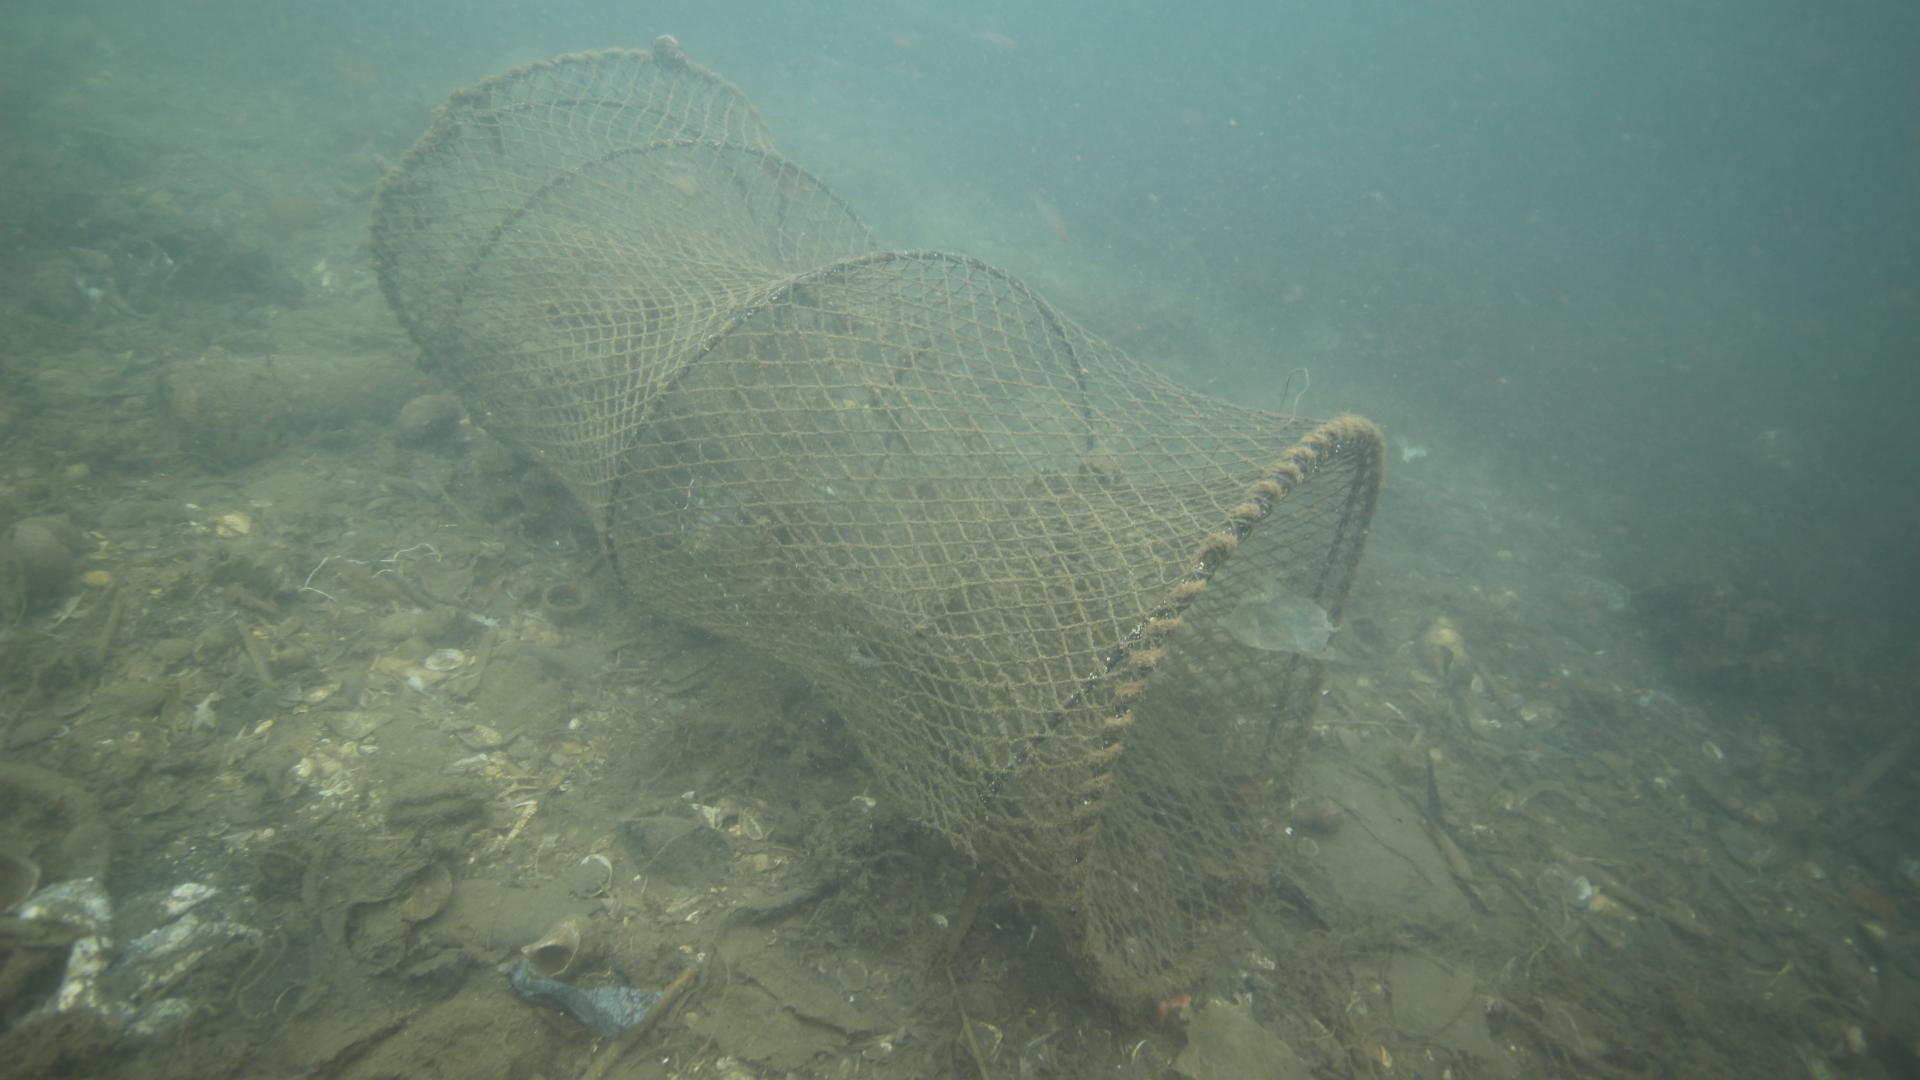spring fish trap: (367, 44, 1386, 1014)
